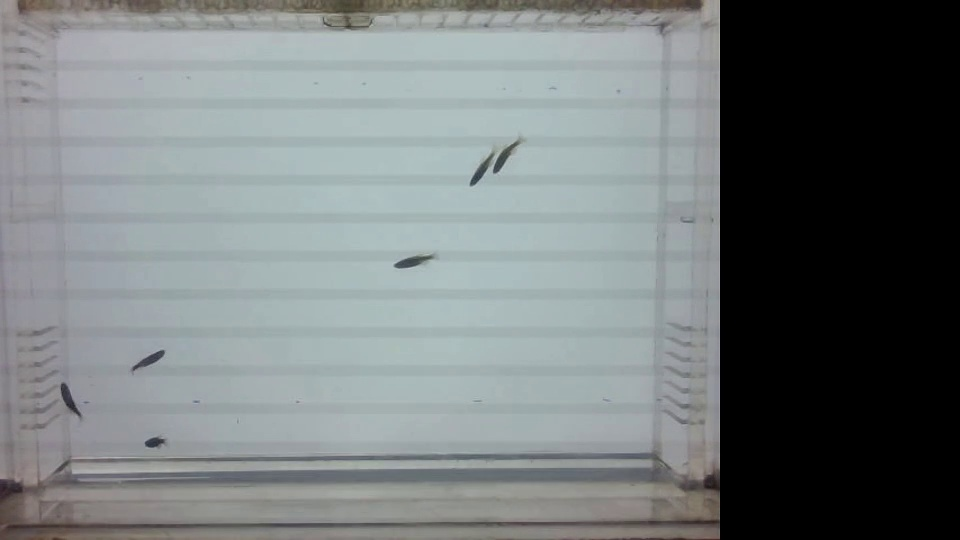fish: (120, 344, 176, 380), (52, 376, 92, 424), (456, 150, 497, 189), (489, 136, 528, 176), (385, 248, 436, 274), (136, 428, 172, 454)
